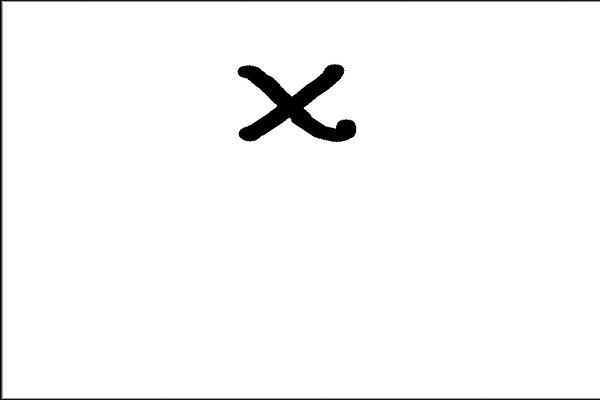X: (206, 46, 384, 161)
